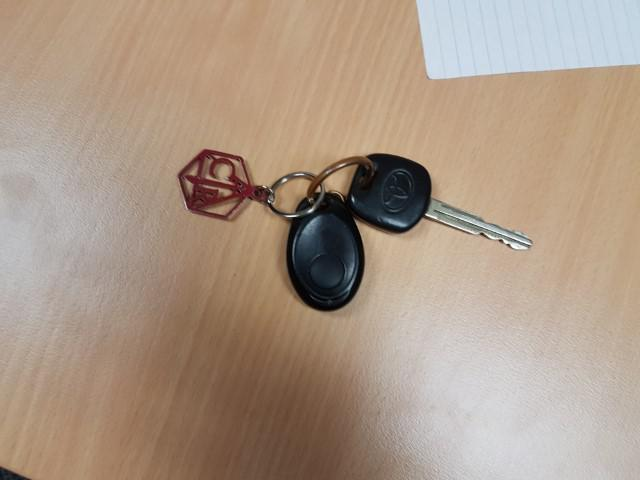key: (351, 152, 533, 250)
